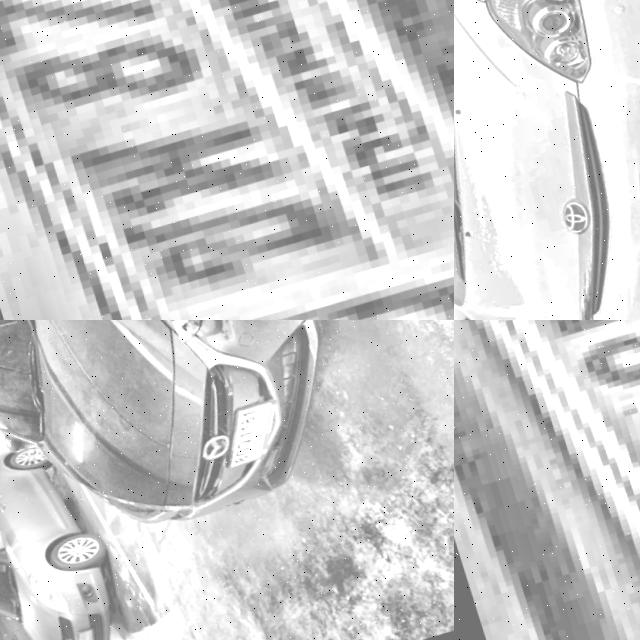license-plate: (0, 0, 454, 320), (454, 320, 640, 640), (202, 400, 288, 475), (603, 152, 640, 281), (60, 627, 89, 640)
